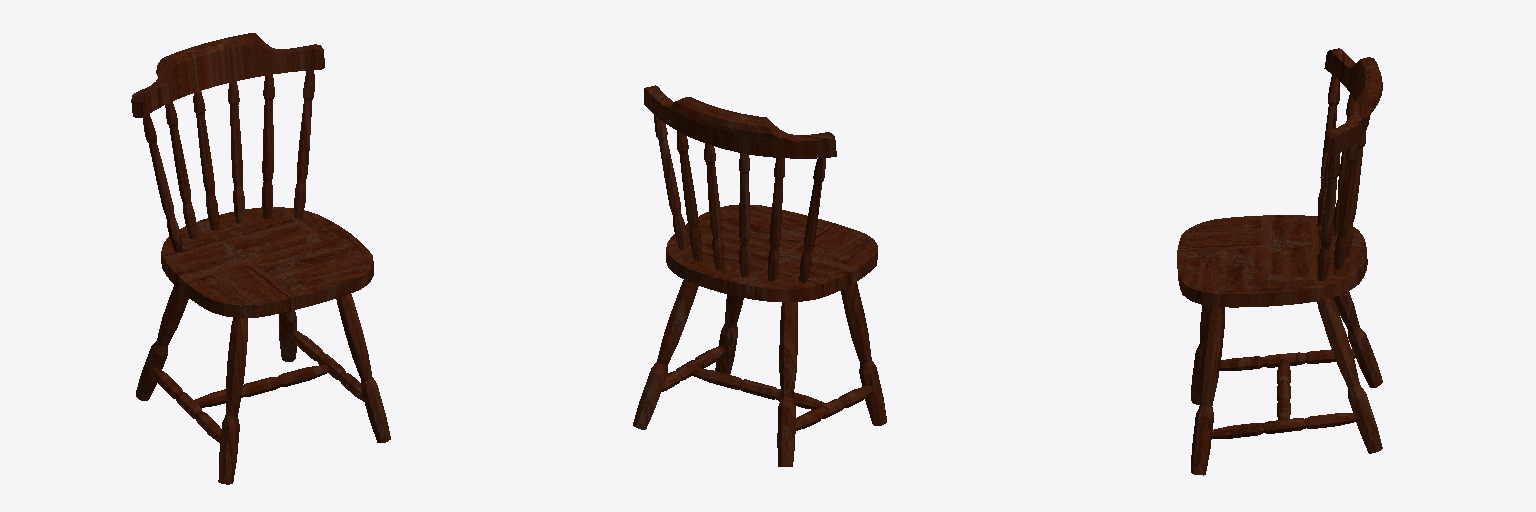
The picture shows the model from 3 angles: view 1: azimuth 30°, elevation 25°; view 2: azimuth 150°, elevation 25°; view 3: azimuth 270°, elevation 25°; orthographic projection.
Visible parts, largest first — view 1: Object.1; view 2: Object.1; view 3: Object.1.
Boxes of the visible parts, x1,y1,x2,y2 form: Object.1: [131, 33, 390, 484]; Object.1: [633, 85, 886, 466]; Object.1: [1177, 48, 1382, 475].
Bounding box in the file's own units: 0.5082 × 0.9113 × 0.4707.
1 materials, 1 textured.